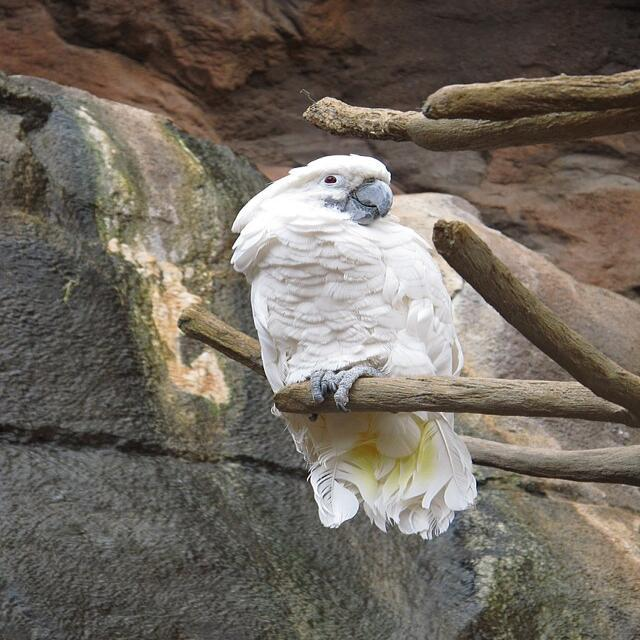Kakatua Putih: (199, 134, 501, 547)
